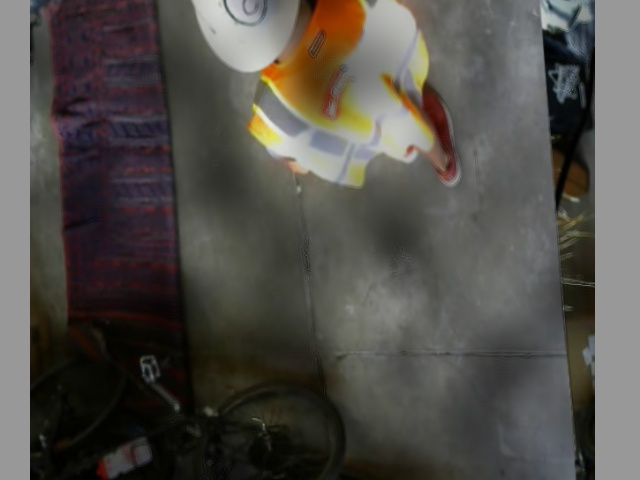three: (221, 0, 267, 23)
